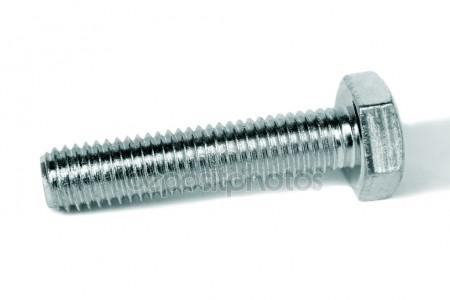screw: (40, 71, 405, 212)
